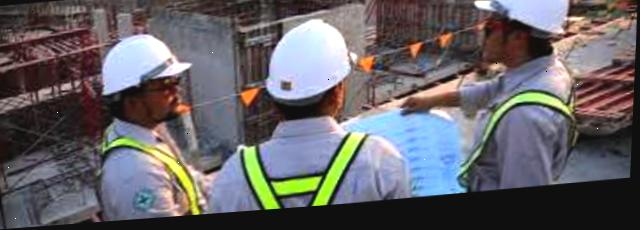helmet: (257, 24, 360, 108), (90, 35, 188, 102), (479, 0, 577, 53)
vest: (445, 74, 590, 201), (227, 130, 376, 216), (86, 123, 206, 225)
